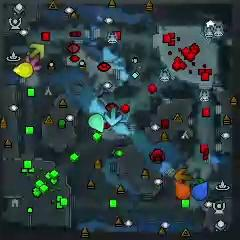p1: (192, 181, 209, 201)
p2: (88, 113, 105, 133)
p4: (12, 62, 34, 79)
p5: (175, 183, 191, 201)
x1: (25, 55, 44, 72)
x2: (30, 43, 46, 58)
x3: (104, 108, 122, 127)
x4: (192, 178, 205, 186)
x5: (173, 167, 193, 183)
